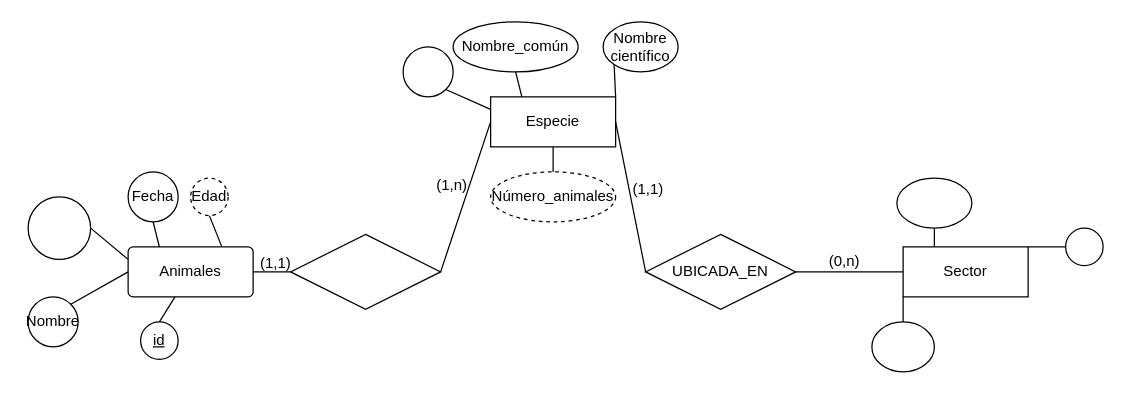
This 1125x394 diagram has some shape labels left out. Each missing label, with the box of its shape:
Ciudad Nacimiento: (27, 196, 91, 259)
Codigo: (402, 46, 453, 97)
Código: (871, 321, 934, 372)
Descripción: (896, 177, 972, 228)
m^2: (1064, 227, 1103, 266)
PERTENECE_A: (289, 233, 441, 309)
